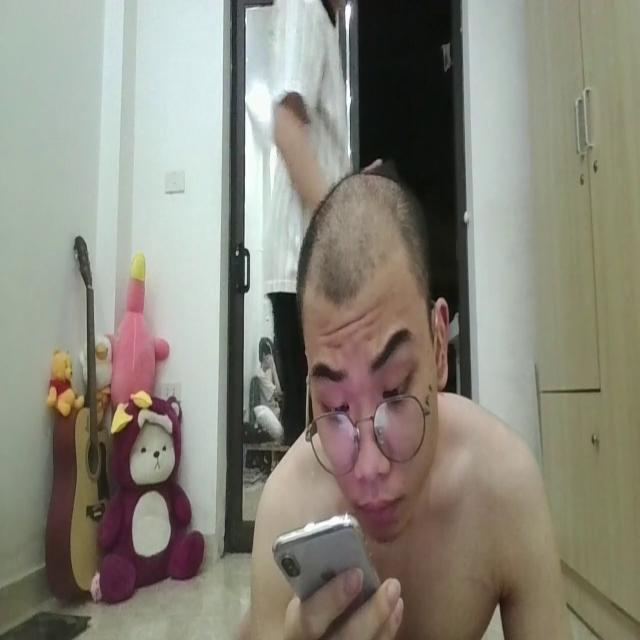extra_person: (248, 0, 361, 382)
phone: (268, 511, 414, 638)
student: (240, 163, 582, 640)
